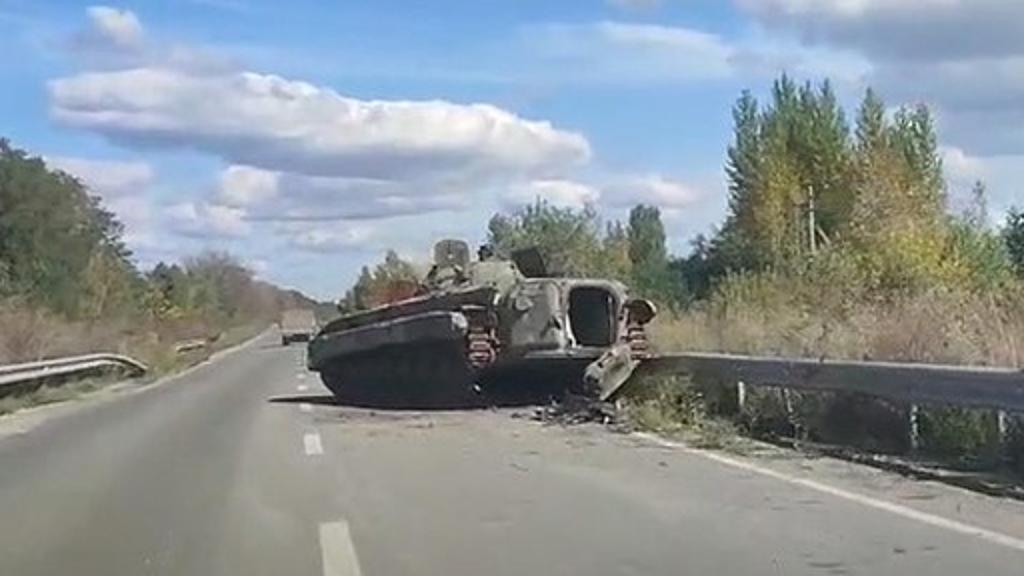APC-IFV: (308, 230, 648, 414)
TRUCK: (280, 300, 318, 344)
